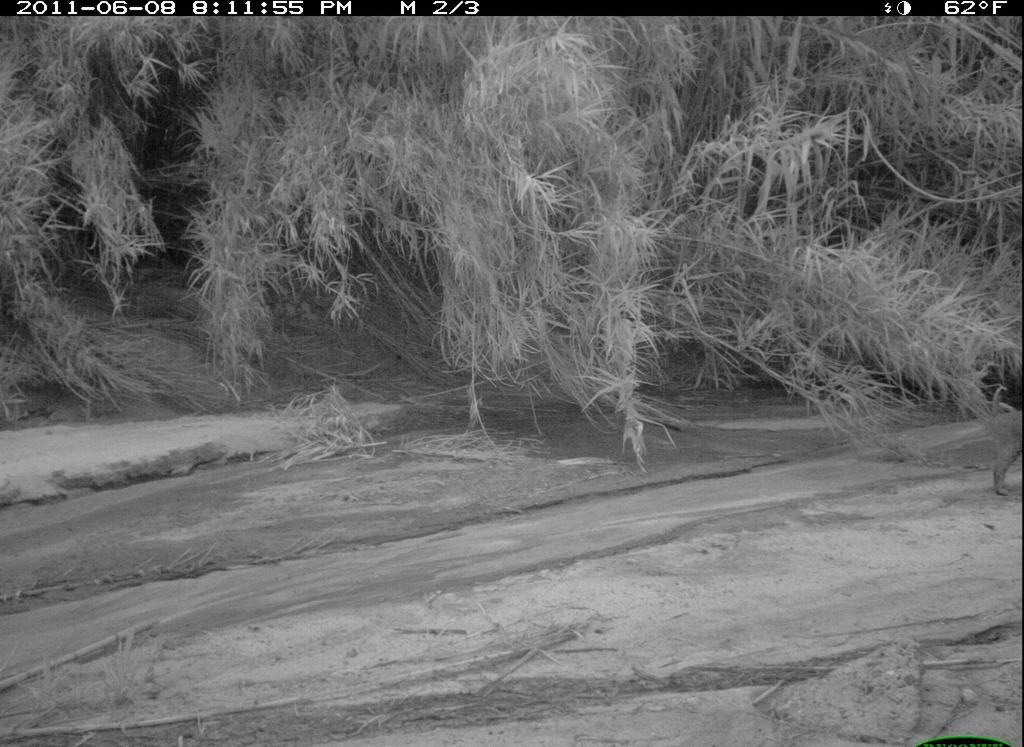bobcat: (968, 361, 1021, 496)
